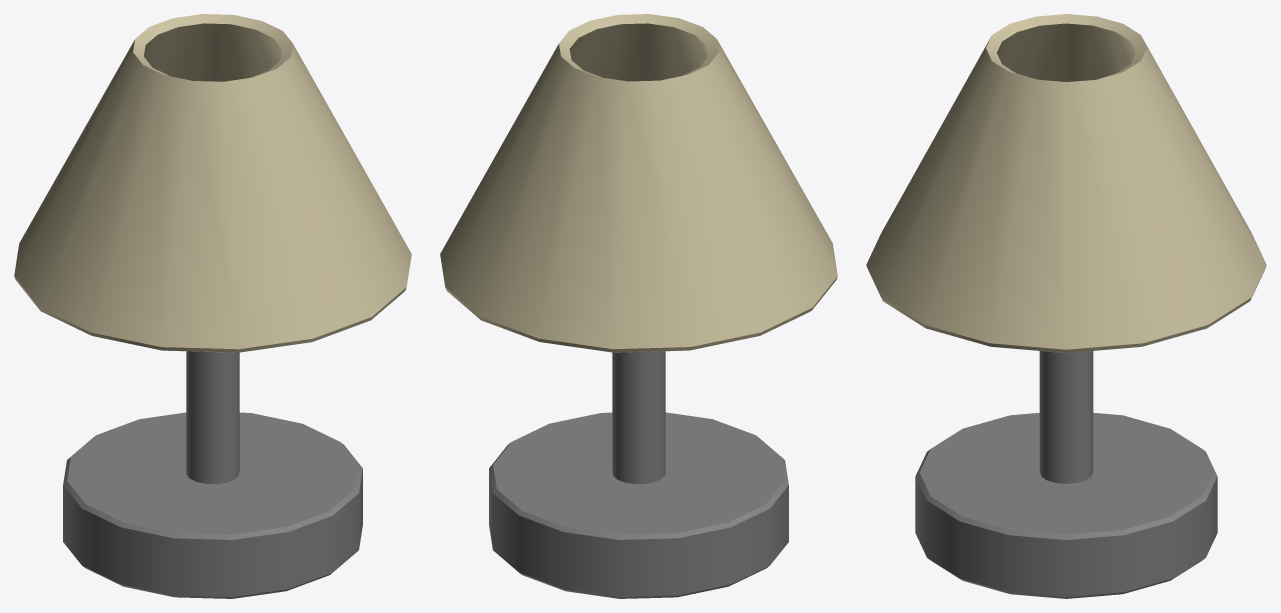
Rendered from lamp.glb.
3 renders of one model, left to right at view 1: azimuth 30°, elevation 25°; view 2: azimuth 150°, elevation 25°; view 3: azimuth 270°, elevation 25°, orthographic.
Parts seen in each view (by area): view 1: lamp; view 2: lamp; view 3: lamp.
Boxes of the visible parts, x1=… form: lamp: x1=14, y1=14, x2=411, y2=598; lamp: x1=440, y1=14, x2=837, y2=598; lamp: x1=866, y1=14, x2=1266, y2=598.
Size of the model in its own units: 0.4459 by 0.6004 by 0.4459.
